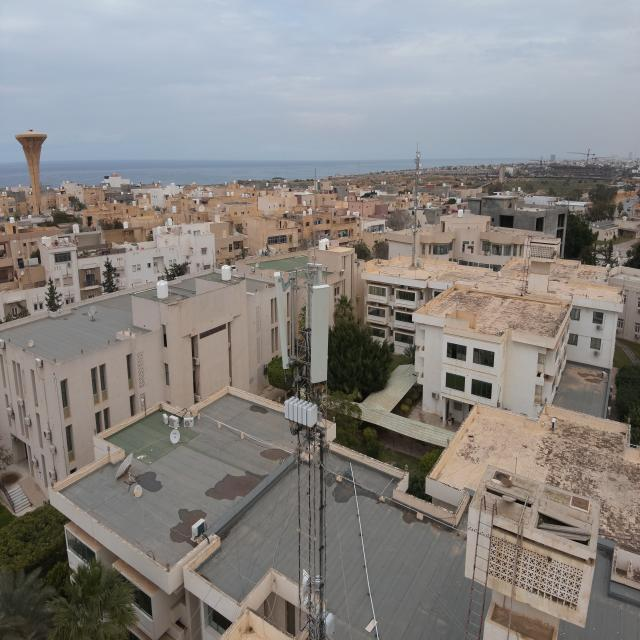antenna: (310, 284, 330, 383), (272, 268, 290, 370), (304, 263, 323, 350)
lighnig-rad: (312, 167, 316, 271)
microware-dish: (302, 568, 326, 592)
power-box: (314, 607, 337, 637)
radio-unit: (284, 394, 318, 428)
